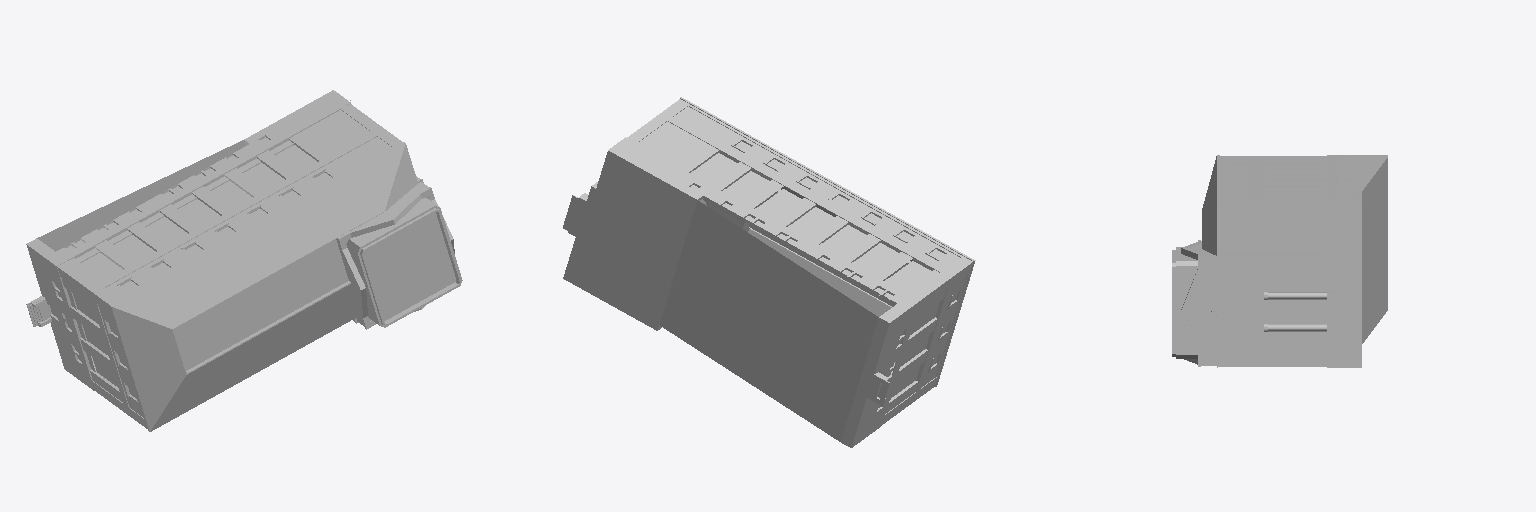
The model's file is Site30-Buildings.obj.
The picture shows the model from 3 angles: view 1: azimuth 30°, elevation 25°; view 2: azimuth 150°, elevation 25°; view 3: azimuth 270°, elevation 25°; orthographic projection.
Bounding box in the file's own units: 172 × 112 × 91.59.